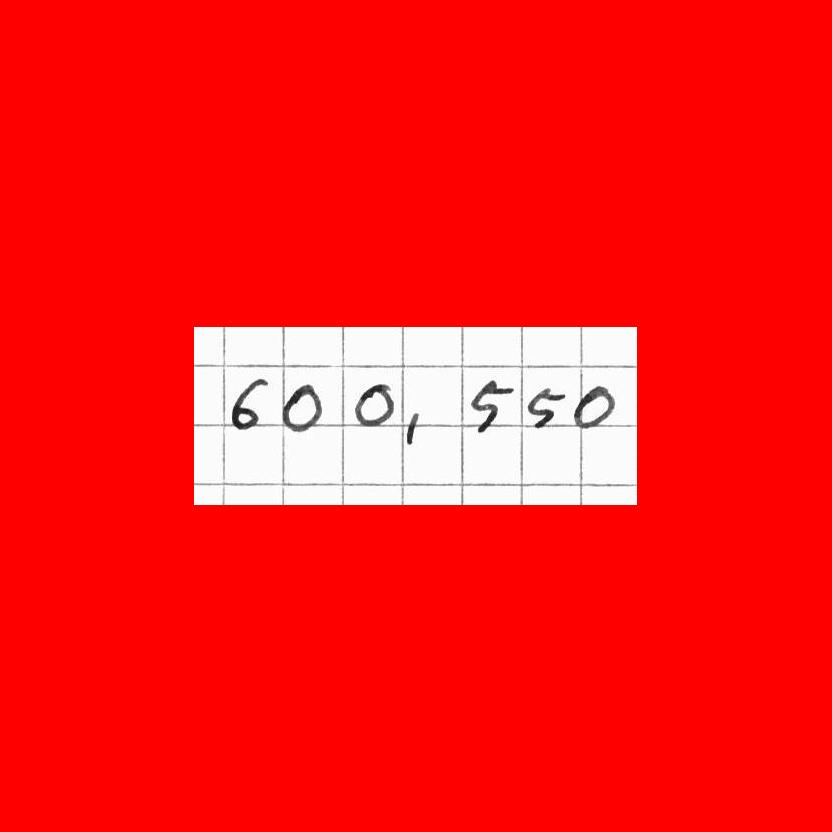Char: (470, 378, 516, 434), (227, 375, 266, 434), (282, 380, 324, 434), (352, 381, 395, 430), (572, 384, 615, 432), (525, 386, 566, 430), (403, 406, 420, 447)
